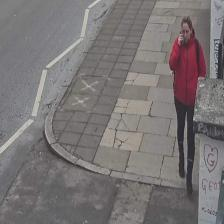person: (169, 14, 206, 194)
